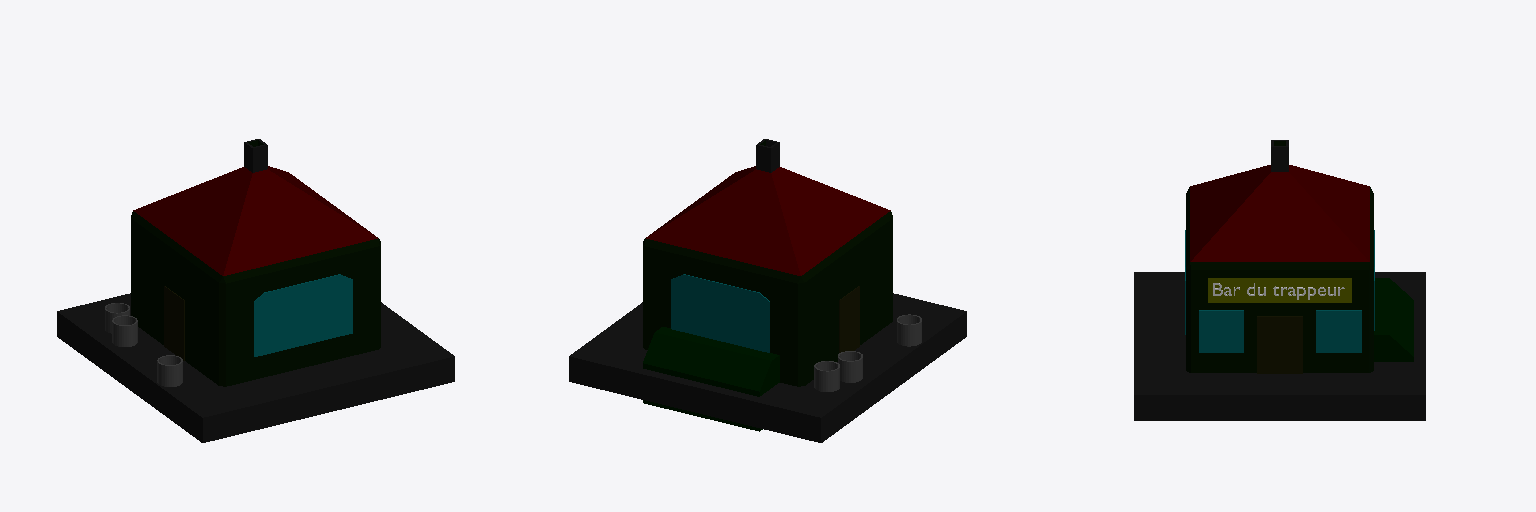
File: bar.obj
3 renders of one model, left to right at view 1: azimuth 30°, elevation 25°; view 2: azimuth 150°, elevation 25°; view 3: azimuth 270°, elevation 25°, orthographic.
Parts seen in each view (by area): view 1: Cube.001, Cube, Cube.004, Cylinder.002, Cube.007; view 2: Cube.001, Cube, Cube.008, Cube.004, Cylinder.002, Cube.007; view 3: Cube.001, Cube, Cube.004, Cube.003, Cube.008, Cube.002, Text.
Part boxes in pixels (bbox=[...]): Cube.001: bbox=[131, 139, 380, 386]; Cube: bbox=[57, 293, 454, 442]; Cube.004: bbox=[254, 274, 352, 356]; Cylinder.002: bbox=[105, 303, 182, 386]; Cube.007: bbox=[164, 286, 184, 360]; Cube.001: bbox=[643, 139, 892, 386]; Cube: bbox=[569, 293, 966, 442]; Cube.008: bbox=[643, 327, 779, 431]; Cube.004: bbox=[671, 274, 769, 352]; Cylinder.002: bbox=[814, 314, 921, 391]; Cube.007: bbox=[839, 286, 859, 352]; Cube.001: bbox=[1186, 140, 1373, 372]; Cube: bbox=[1134, 272, 1425, 420]; Cube.004: bbox=[1185, 230, 1374, 352]; Cube.003: bbox=[1208, 278, 1351, 302]; Cube.008: bbox=[1374, 278, 1413, 361]; Cube.002: bbox=[1257, 316, 1302, 373]; Text: bbox=[1213, 283, 1344, 299].
Size of the model in its own units: 8.53 by 7.26 by 8.53.